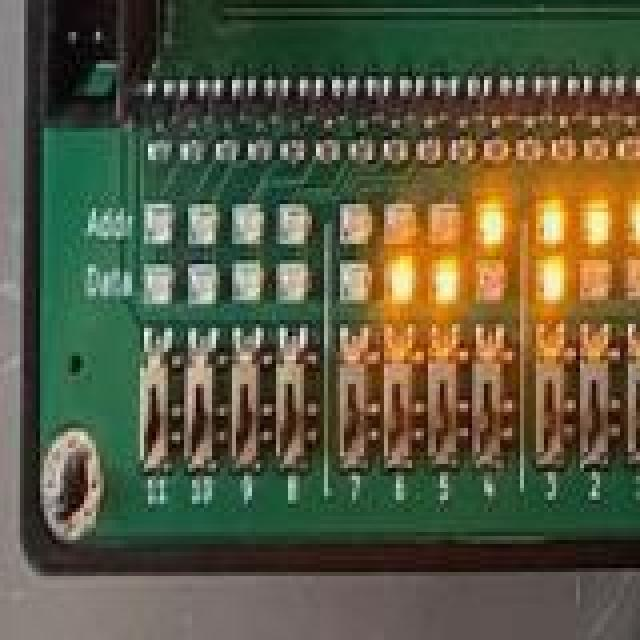LED: (144, 200, 174, 252), (344, 208, 378, 252), (584, 256, 616, 302), (476, 264, 510, 306), (188, 208, 220, 252), (188, 264, 220, 308), (144, 264, 178, 302), (432, 204, 464, 244), (388, 204, 418, 246), (480, 204, 508, 248), (536, 260, 562, 304), (236, 216, 266, 252), (236, 264, 264, 302), (540, 204, 568, 242), (280, 208, 308, 244), (280, 268, 308, 304), (436, 260, 462, 298), (344, 272, 374, 304), (392, 264, 416, 302), (588, 212, 614, 246), (628, 268, 640, 308), (632, 204, 640, 244)
connector: (36, 0, 144, 148)
resistor: (584, 136, 608, 174), (448, 144, 474, 176), (484, 132, 508, 166), (316, 144, 342, 174), (516, 140, 542, 170), (248, 140, 272, 172), (148, 132, 170, 166), (280, 140, 306, 166), (420, 140, 442, 168), (216, 144, 240, 168), (352, 140, 374, 166), (552, 136, 574, 162), (180, 148, 206, 168), (388, 140, 408, 166), (620, 136, 640, 160)
switch: (468, 332, 510, 496), (380, 336, 418, 488), (576, 332, 614, 484), (228, 340, 268, 480), (336, 336, 372, 484), (536, 332, 568, 490), (428, 332, 464, 470), (136, 344, 170, 488), (272, 336, 304, 480), (184, 340, 212, 480), (620, 332, 640, 504)
transistor: (444, 76, 478, 132), (312, 76, 344, 130), (584, 76, 616, 130), (408, 84, 442, 132), (276, 84, 310, 130), (516, 76, 546, 126), (376, 84, 406, 132), (548, 76, 576, 126), (248, 80, 276, 128), (344, 80, 372, 128), (480, 80, 508, 126), (616, 76, 640, 128), (212, 88, 240, 132), (148, 84, 176, 126), (184, 88, 210, 132)
